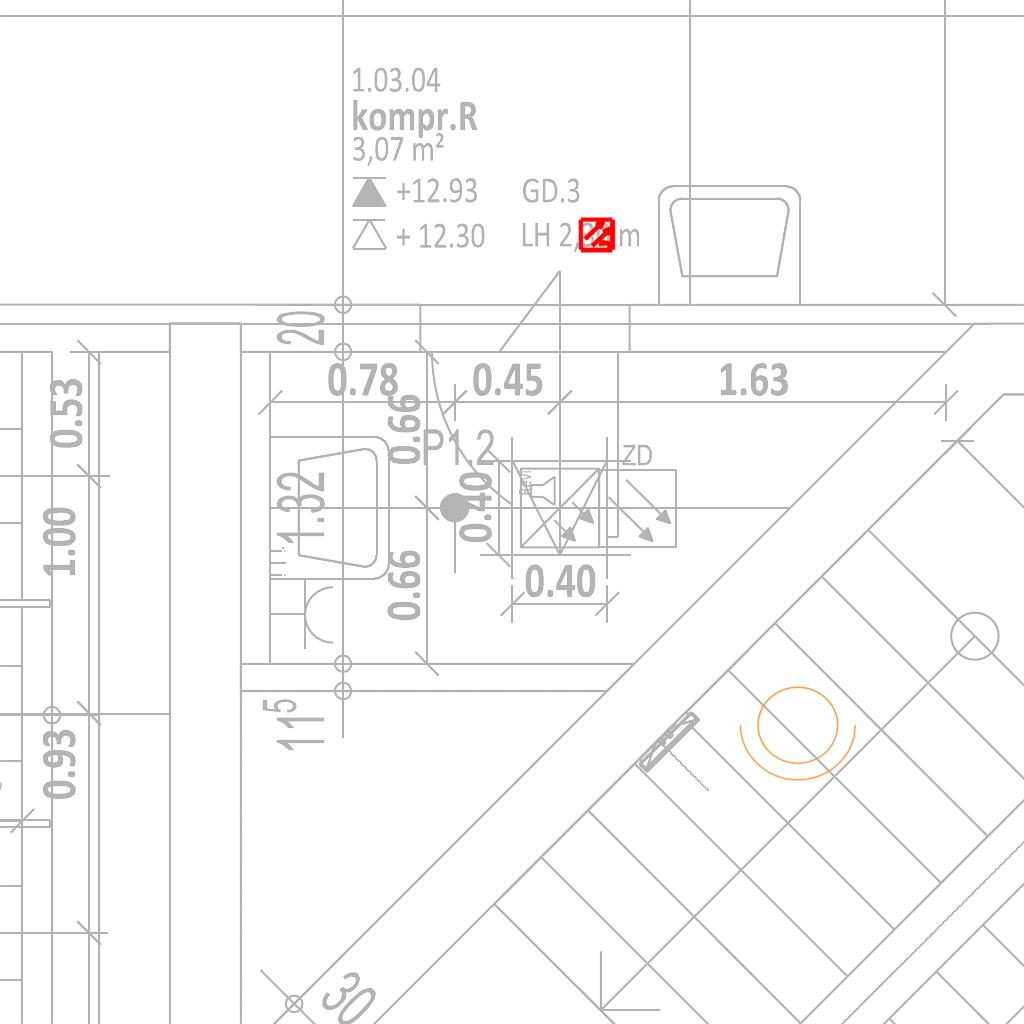OT_Multisensormelder_(Kombination_RMO_WMD): (570, 207, 626, 263)
Scheinwerfer_fuer_Alarmbeleuchtung: (735, 674, 867, 786)
